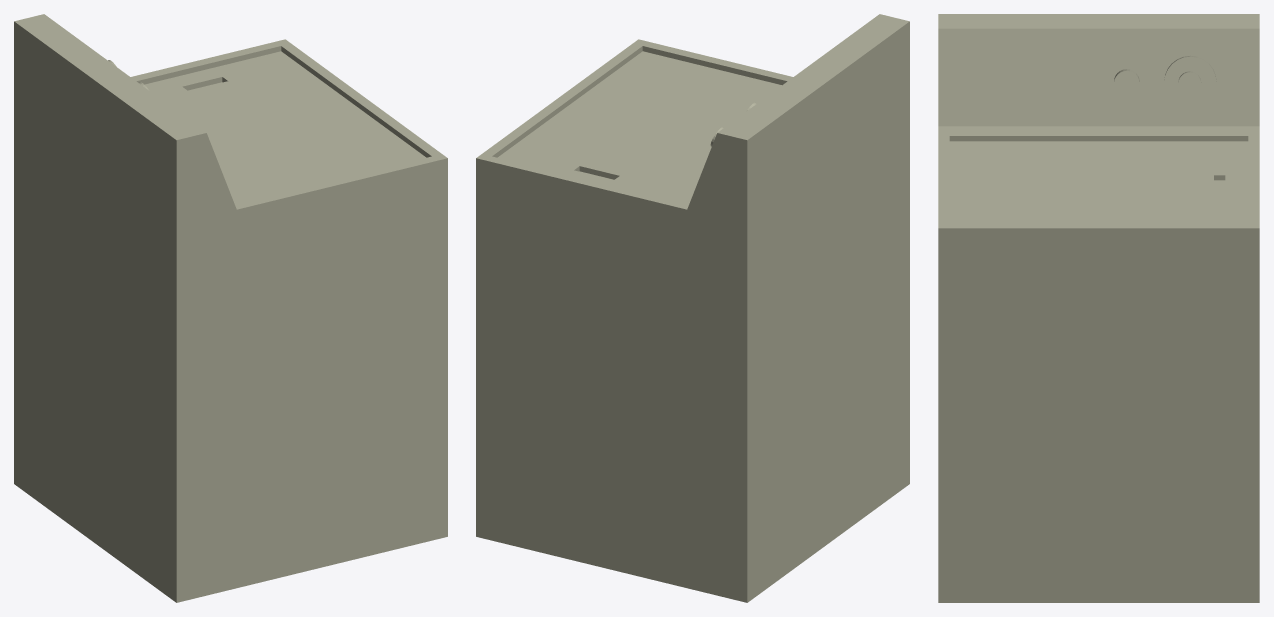
The picture shows the model from 3 angles, left to right: view 1: azimuth 30°, elevation 25°; view 2: azimuth 150°, elevation 25°; view 3: azimuth 270°, elevation 25°; orthographic projection.
Visible parts, largest first — view 1: mesh1_mesh1-geometry; view 2: mesh1_mesh1-geometry; view 3: mesh1_mesh1-geometry.
Boxes of the visible parts, x1=… form: mesh1_mesh1-geometry: x1=14, y1=14, x2=447, y2=602; mesh1_mesh1-geometry: x1=476, y1=14, x2=909, y2=602; mesh1_mesh1-geometry: x1=938, y1=14, x2=1259, y2=602.
Size of the model in its own units: 0.4597 by 0.7492 by 0.4768.
